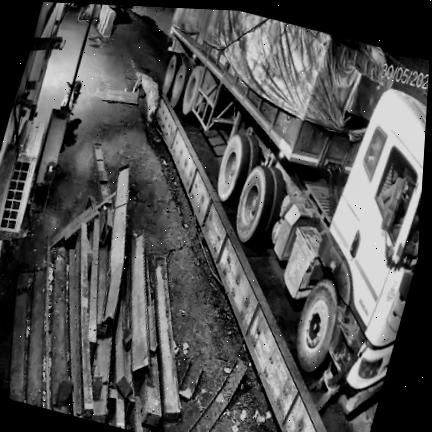tyre: (296, 278, 338, 373), (236, 166, 274, 245), (217, 134, 250, 202), (257, 168, 285, 243), (170, 60, 192, 108), (182, 66, 203, 115), (162, 54, 182, 96), (247, 136, 262, 175)
